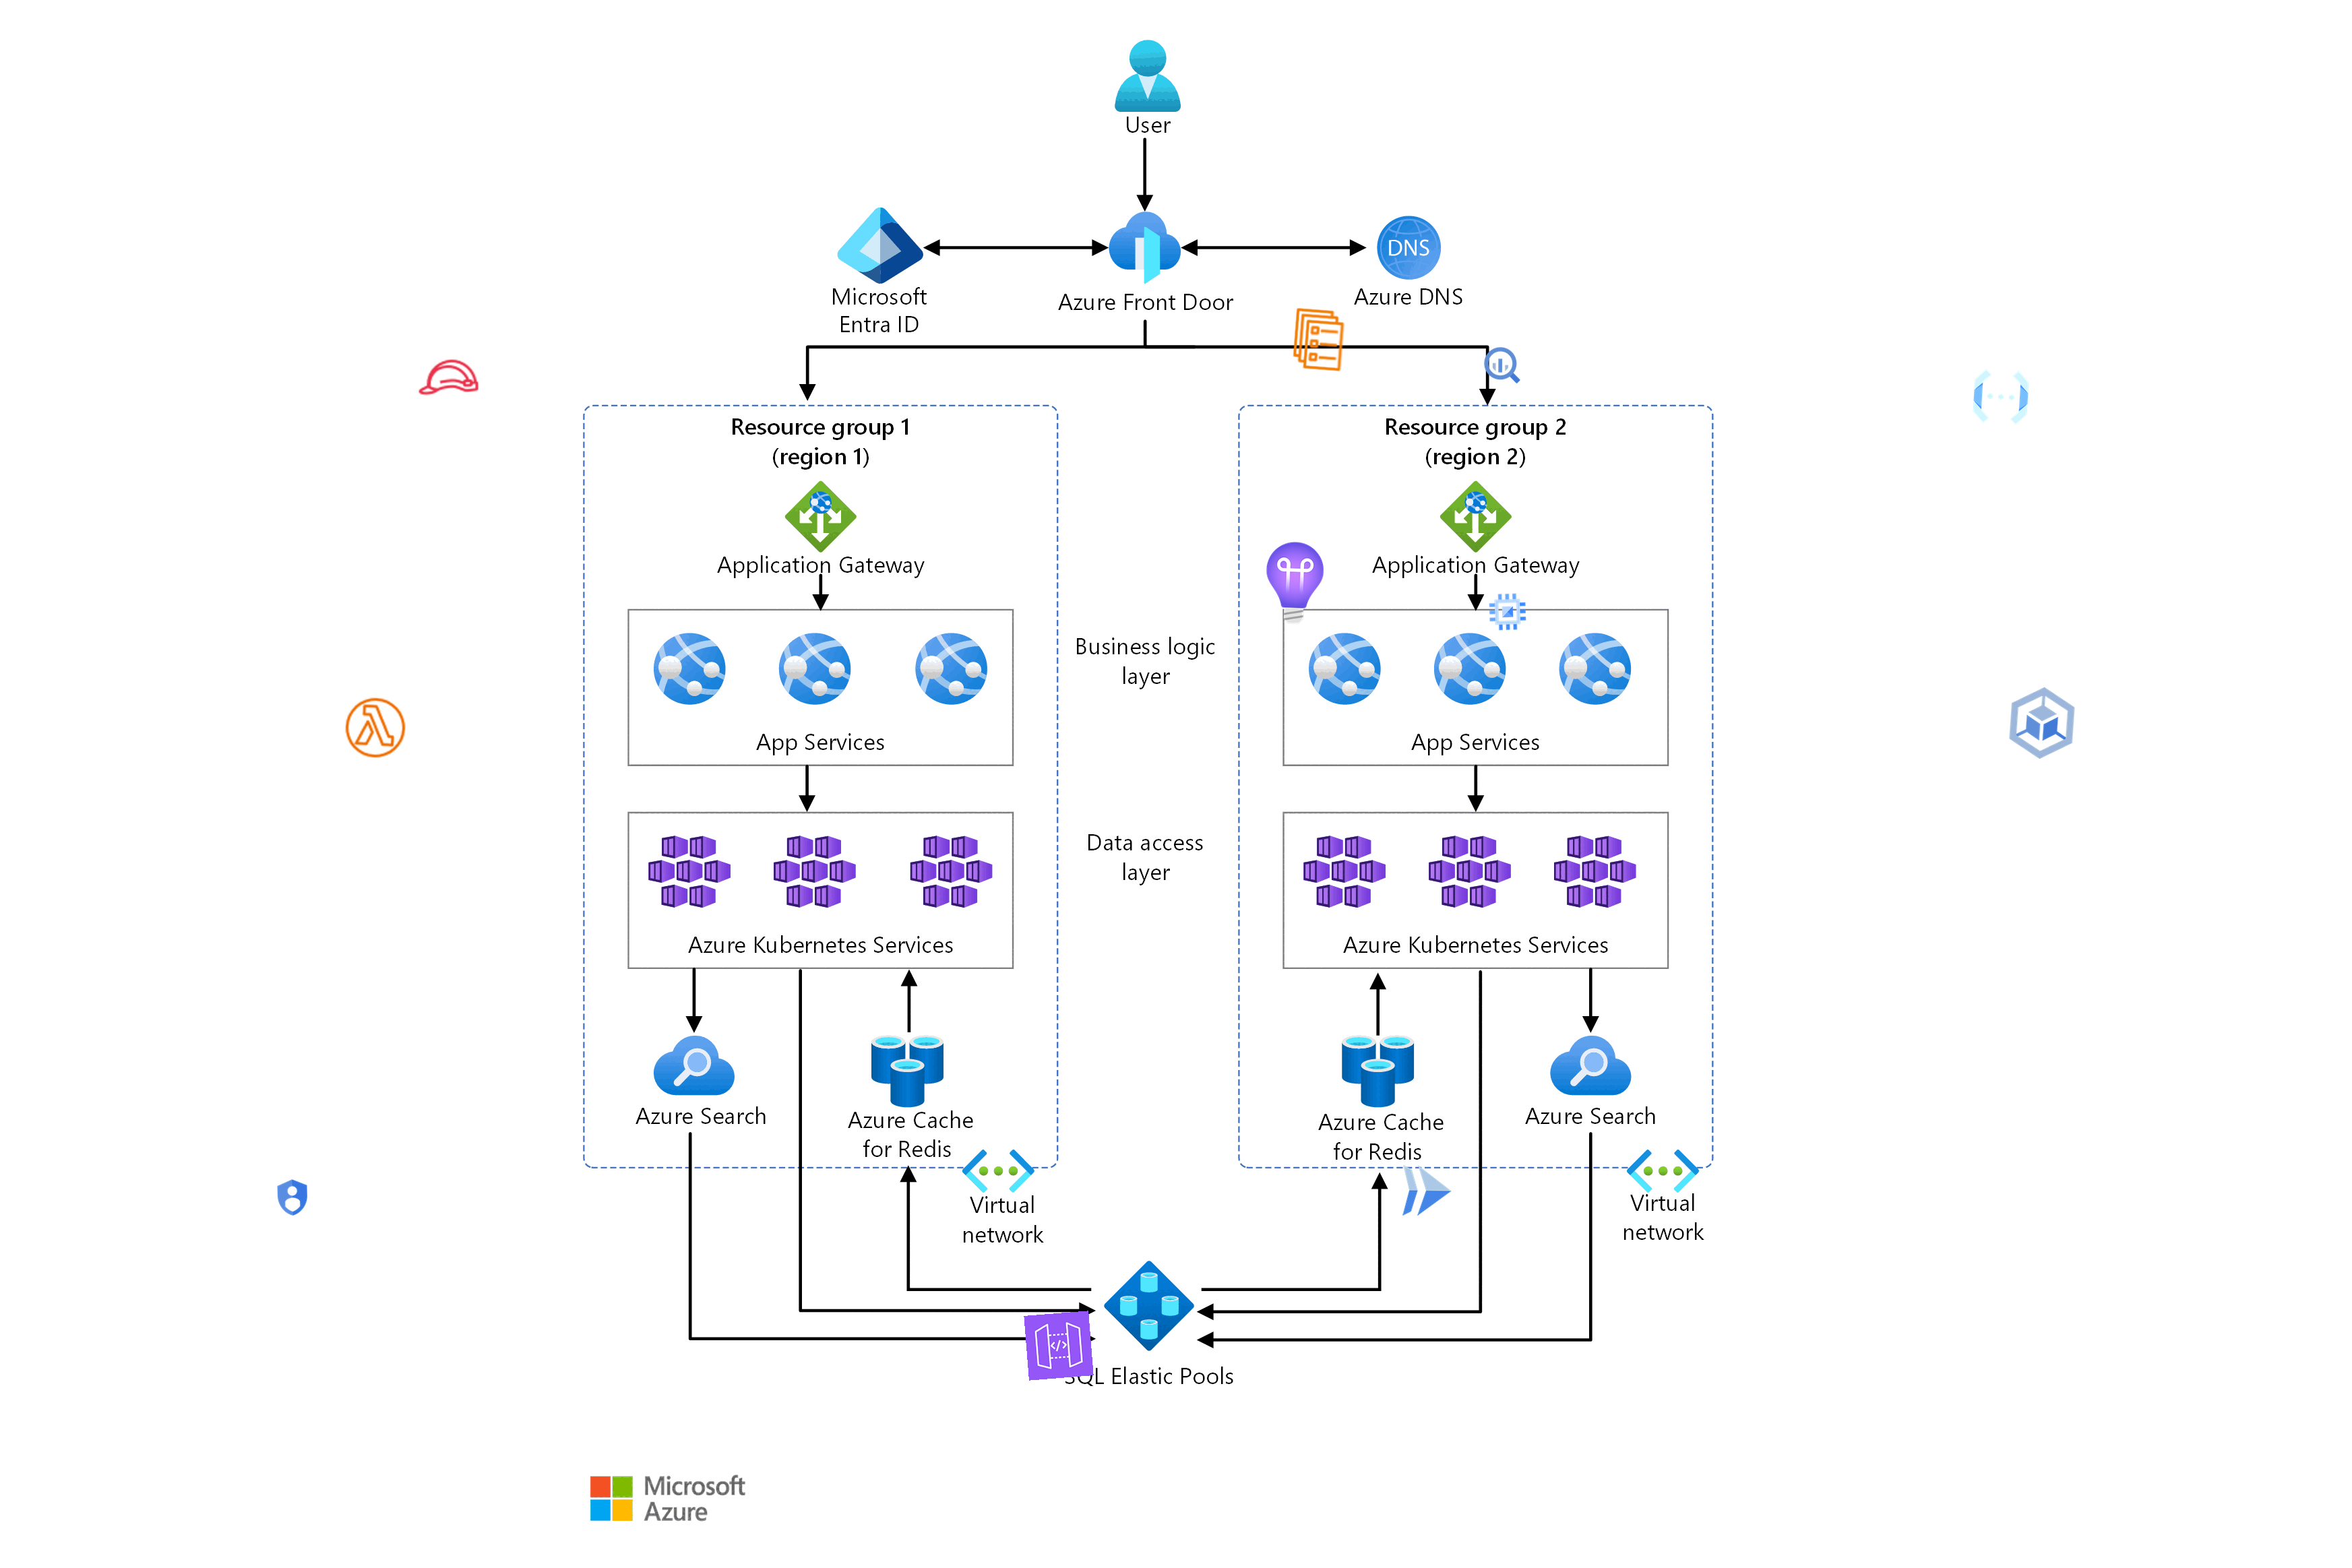aws_amazon_api_gateway: (1024, 1311, 1094, 1381)
aws_elastic_container_service_service: (1284, 305, 1354, 375)
aws_identity_access_management_role: (415, 343, 481, 411)
aws_lambda_lambda_function: (341, 693, 410, 761)
azure_application_insights: (1249, 537, 1340, 628)
gcp_bigquery: (1480, 343, 1524, 387)
gcp_cloud_functions: (1967, 362, 2035, 431)
gcp_cloud_run: (1393, 1158, 1459, 1223)
gcp_compute_engine: (1486, 590, 1530, 634)
gcp_google_kubernetes_engine: (1995, 677, 2088, 770)
gcp_identity_and_access_management: (269, 1176, 315, 1220)
